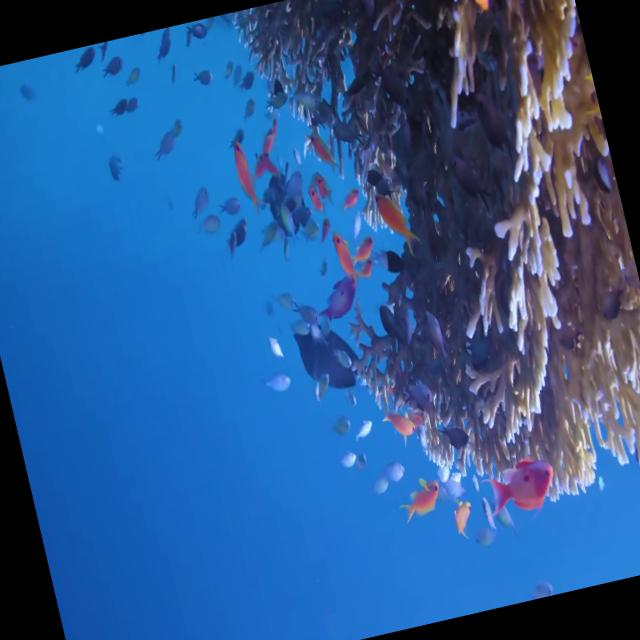fish: (486, 456, 560, 518), (371, 181, 424, 263), (398, 480, 447, 528)
